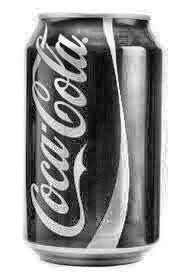can: (17, 4, 169, 270)
